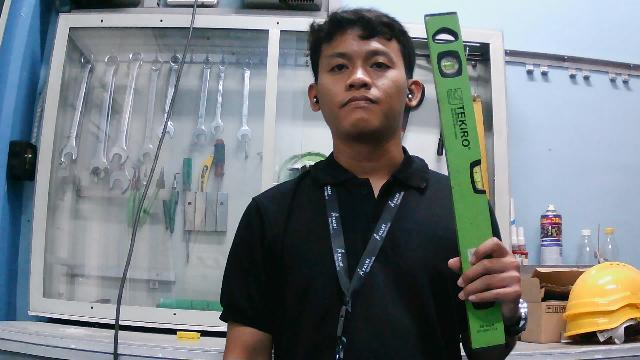water_pass: (417, 11, 511, 352)
